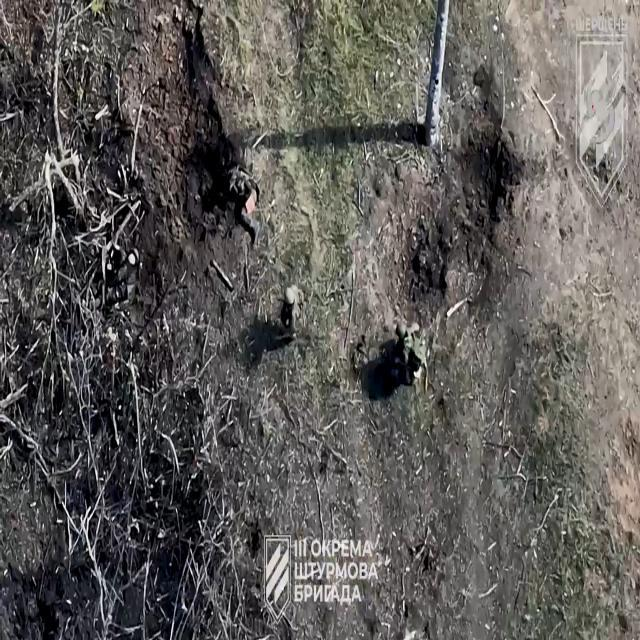MIL_Pax: (232, 166, 262, 229)
